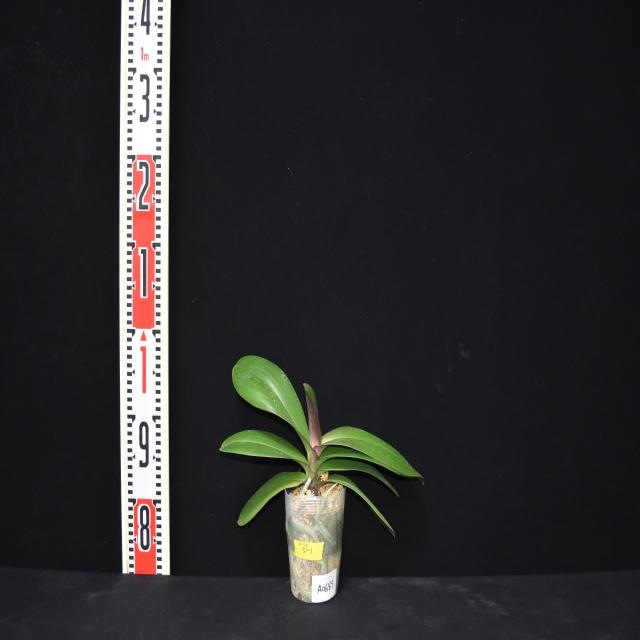leaf: (232, 356, 311, 447), (323, 428, 427, 489), (320, 444, 430, 490), (321, 475, 395, 536), (239, 473, 308, 525), (222, 429, 308, 464), (321, 458, 397, 495), (306, 384, 323, 449)
